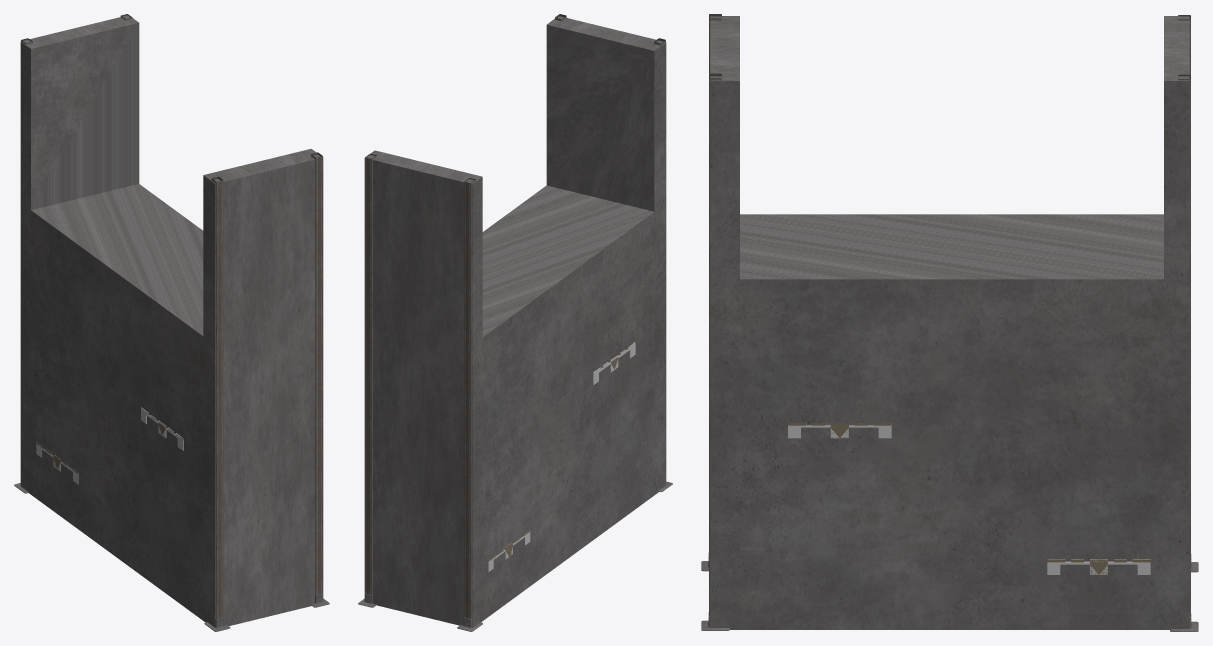
The model's file is ind_rack_l.DAE.
3 renders of one model, left to right at view 1: azimuth 30°, elevation 25°; view 2: azimuth 150°, elevation 25°; view 3: azimuth 270°, elevation 25°, orthographic. The views are drawn at different scales.
Parts seen in each view (by area): view 1: Colmesh-1, ind_rack_l300; view 2: Colmesh-1, ind_rack_l300; view 3: Colmesh-1, ind_rack_l300, ind_rack_l100.
Boxes of the visible parts, x1=… form: Colmesh-1: x1=20, y1=15, x2=323, y2=627; ind_rack_l300: x1=14, y1=14, x2=329, y2=631; Colmesh-1: x1=364, y1=16, x2=666, y2=627; ind_rack_l300: x1=358, y1=14, x2=672, y2=631; Colmesh-1: x1=710, y1=16, x2=1189, y2=629; ind_rack_l300: x1=701, y1=14, x2=1198, y2=631; ind_rack_l100: x1=709, y1=14, x2=1190, y2=574.
Bounding box in the file's own units: 126 × 385 × 471.
